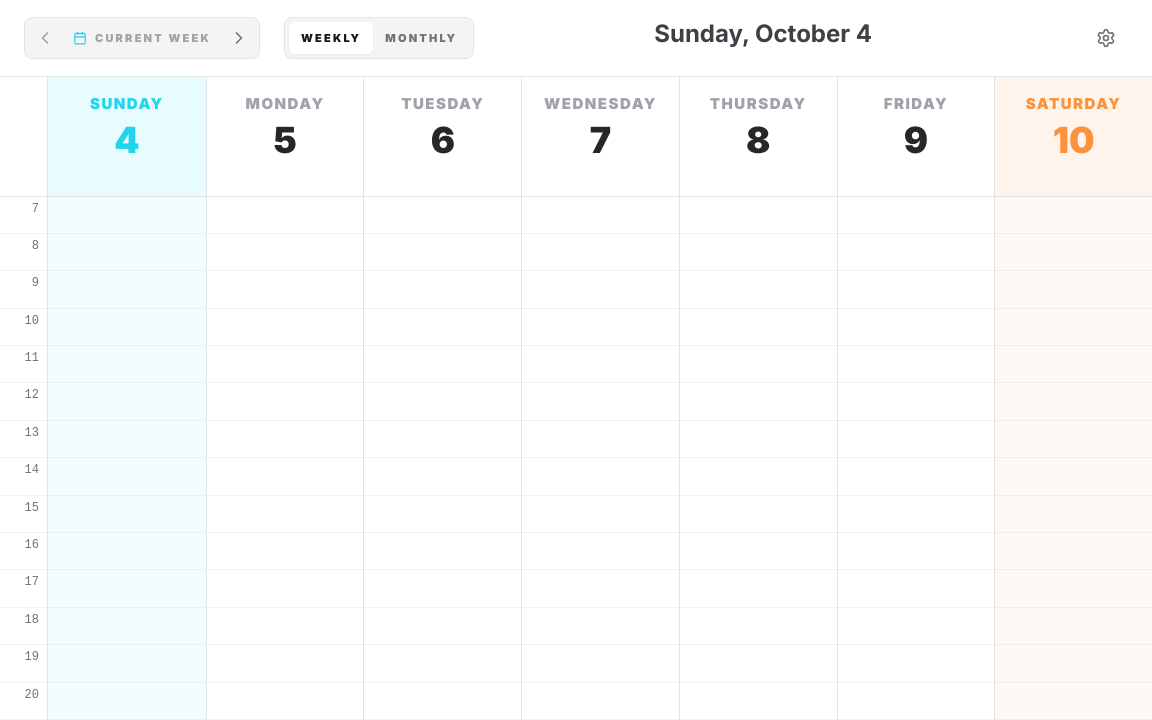
Test case: Dashboard: every day on screen is inside the request › "today" month view, Next Month: the grid and the request agree on the days
Click the button with test id "monthly-view-toggle": (421, 38) [373,22,469,54]
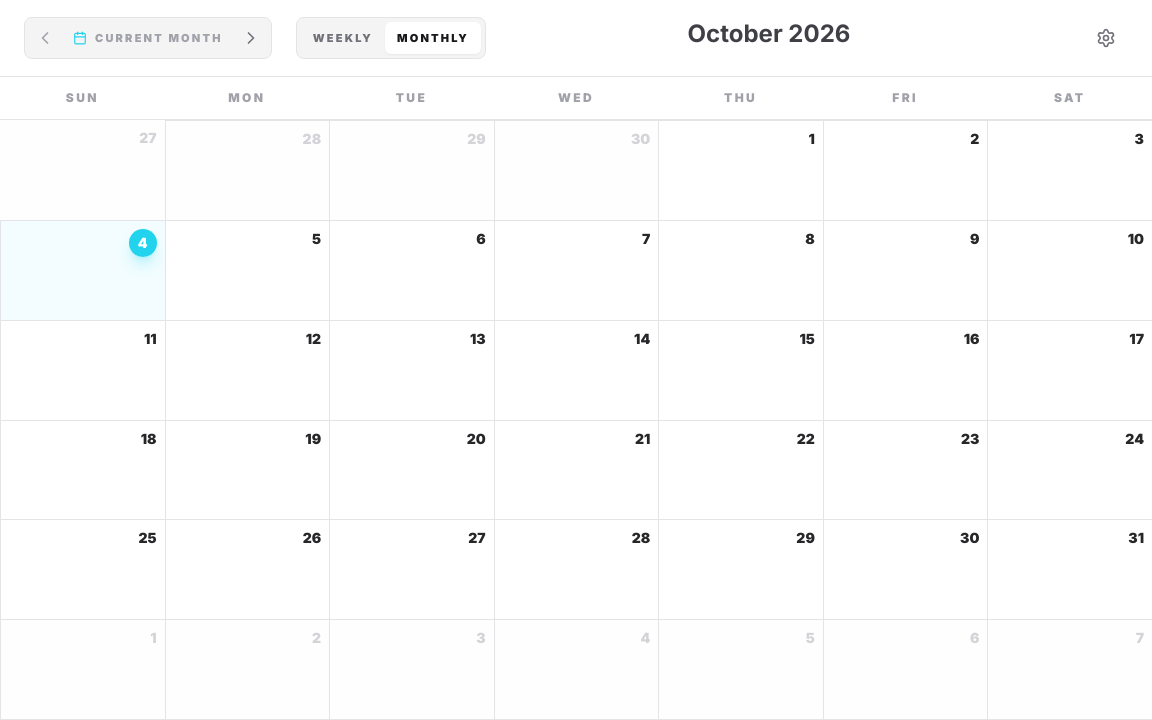
Click the button with test id "next-week-button": (251, 38) [235,22,267,54]
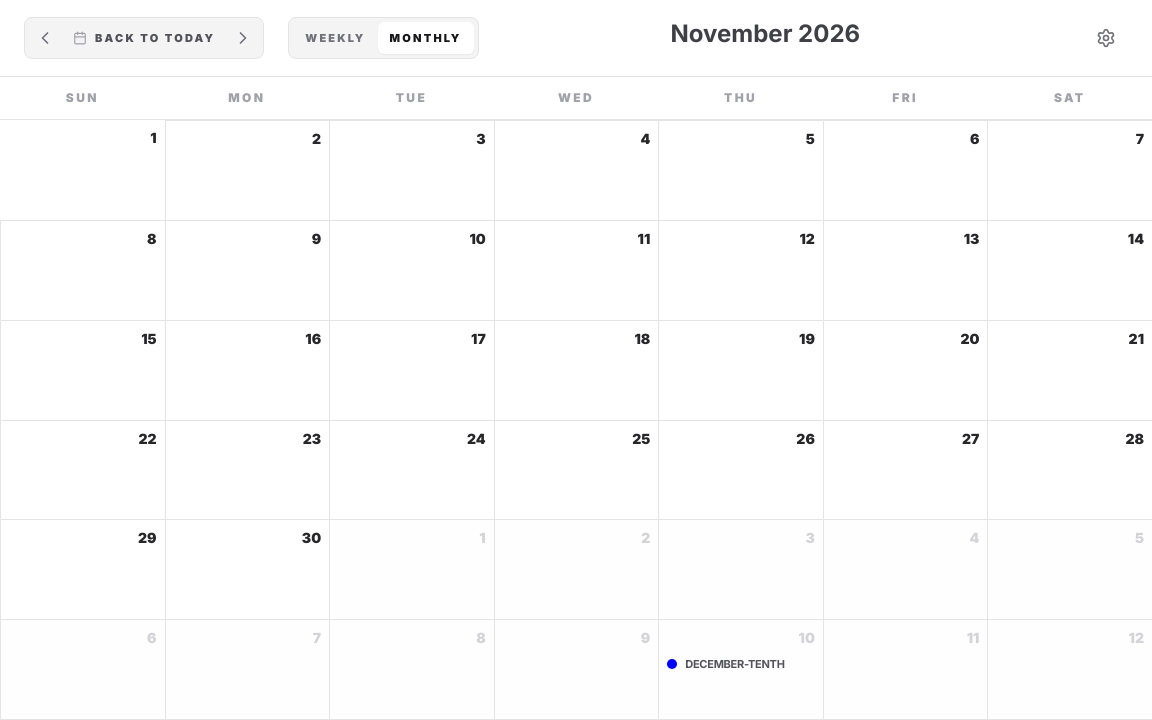
Now the text "december-tenth" is shown, box [685,656,785,673]
